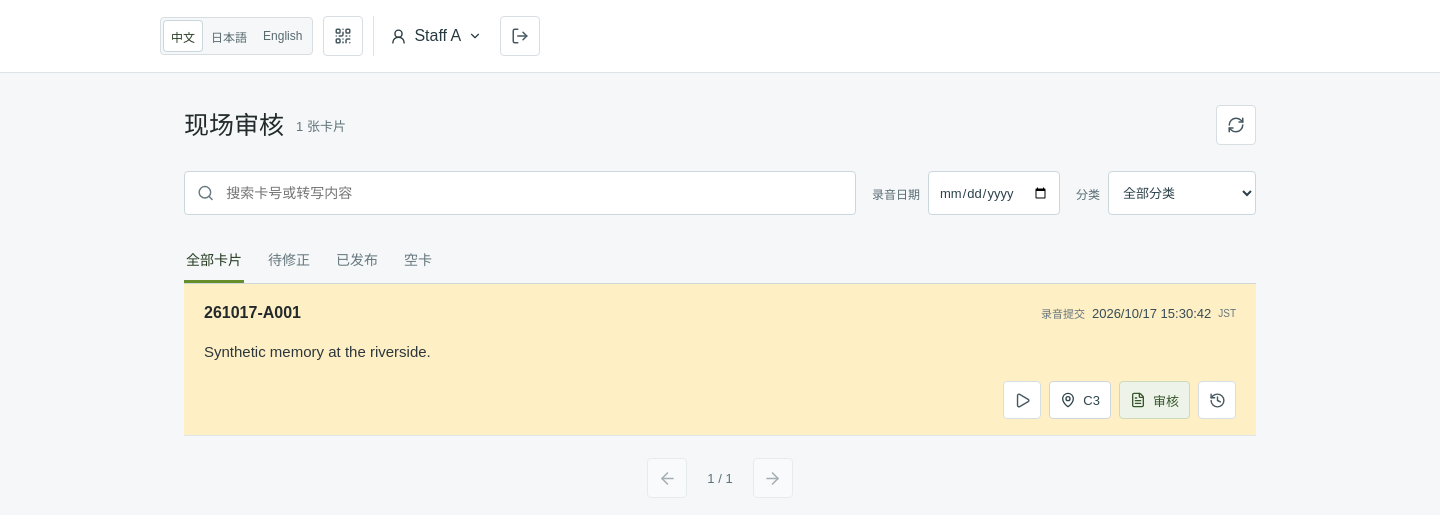
staff website › switches the staff page to English
Expected: the text "Synthetic memory at the riverside." is shown, [204,343,431,360]
Step 1. Click the button "English" → (283, 36), box [256,21,309,51]
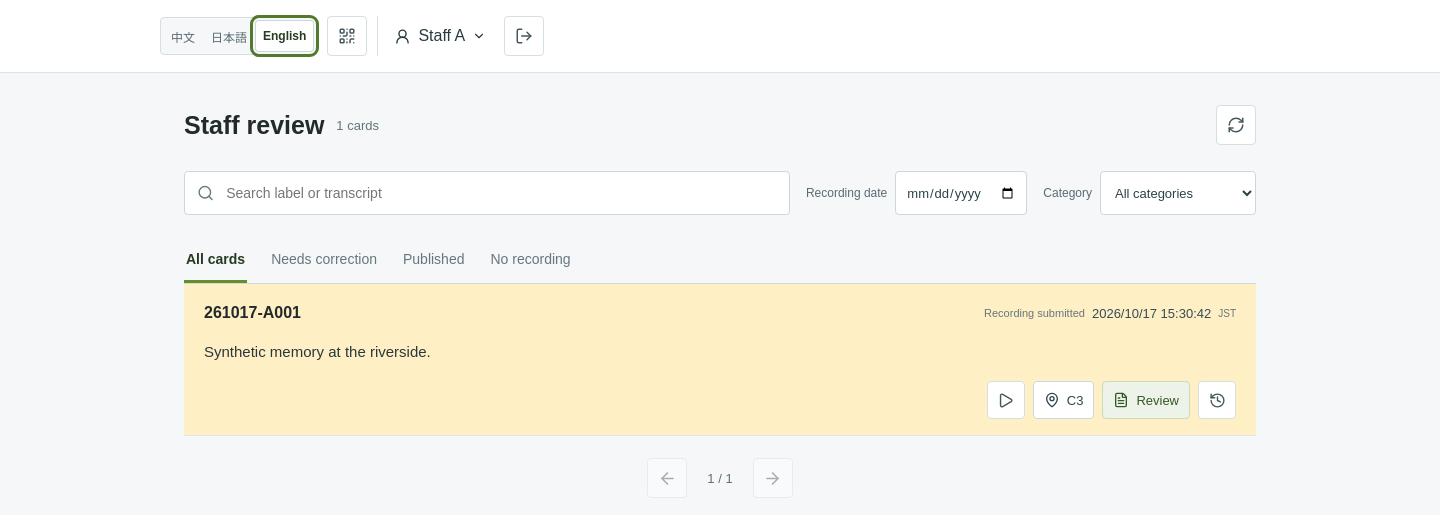
Now the tab "All cards" is shown, box [184,237,247,283]
Now the search field labelled "Search label or transcript" is shown, box [224,172,777,214]
